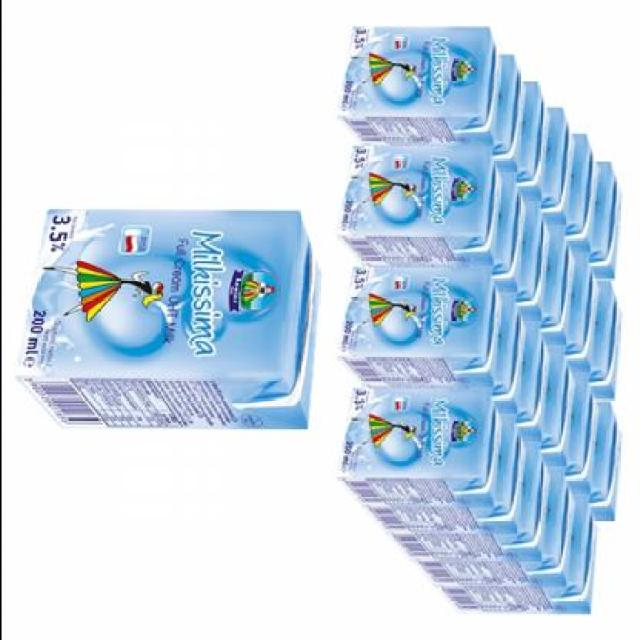tetra: (1, 182, 334, 452)
